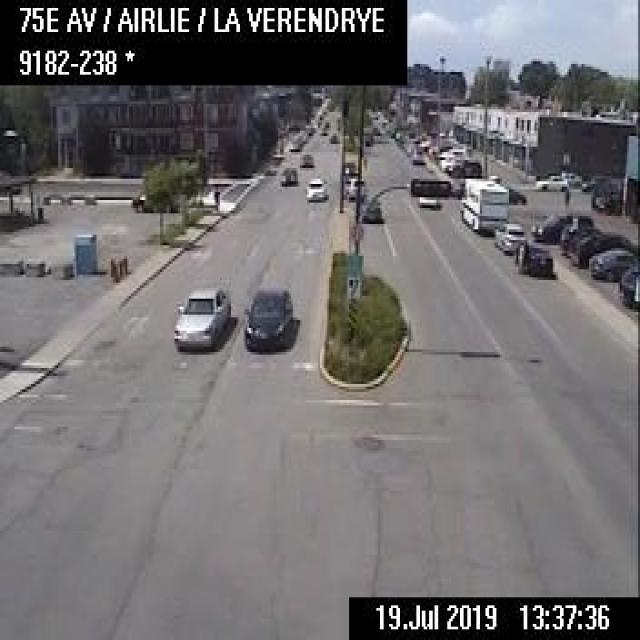construction: (112, 257, 119, 281), (122, 252, 128, 272), (108, 255, 113, 276), (119, 255, 123, 276)
pedestrian: (212, 183, 218, 211)
vehicle: (170, 285, 230, 352), (240, 283, 291, 352), (459, 176, 506, 231), (567, 231, 637, 267), (530, 212, 593, 241), (589, 246, 637, 280), (512, 238, 553, 277), (558, 222, 601, 255), (129, 190, 177, 212), (492, 220, 523, 251), (354, 187, 382, 221), (618, 263, 636, 308), (529, 168, 564, 189), (302, 173, 327, 200), (447, 158, 480, 176), (342, 176, 364, 198), (582, 172, 612, 188), (558, 169, 580, 187), (279, 165, 296, 185), (298, 150, 315, 166), (408, 146, 424, 163), (415, 194, 437, 206), (287, 138, 299, 150), (327, 131, 338, 141), (318, 125, 328, 134)
